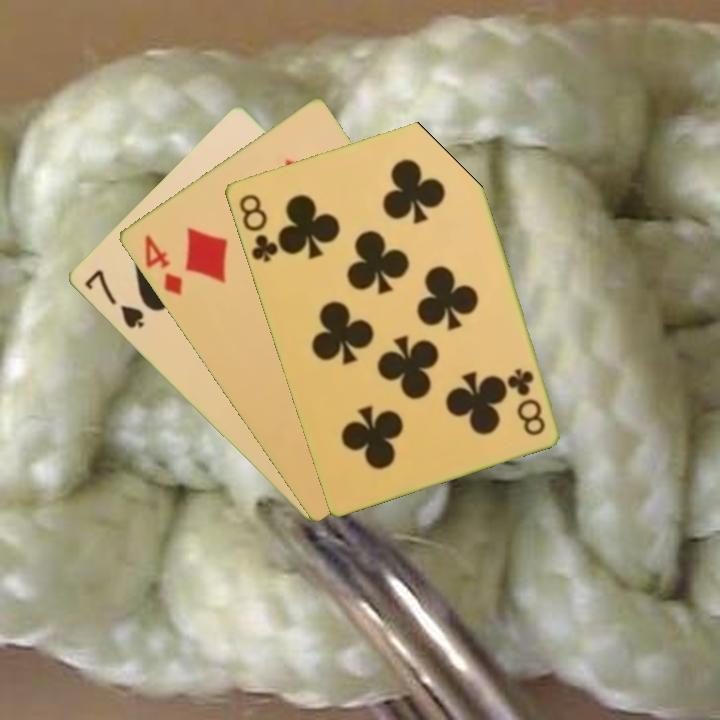4d: (140, 231, 185, 299)
7s: (80, 266, 147, 332)
8c: (235, 190, 281, 266), (504, 364, 548, 439)
